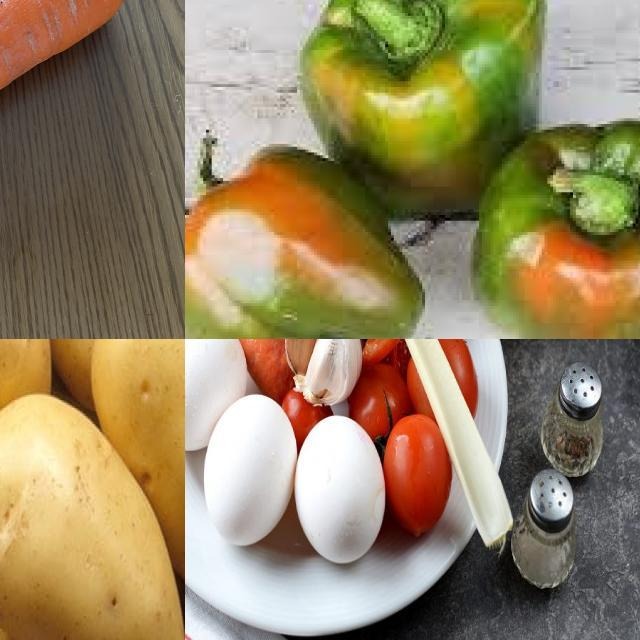bell_pepper: (285, 1, 548, 238), (186, 118, 437, 340), (455, 107, 640, 340)
carrot: (1, 1, 137, 233)
egg: (206, 393, 276, 556), (305, 423, 380, 569), (186, 340, 240, 448)
garlic: (297, 340, 361, 402)
potato: (1, 397, 186, 640), (83, 340, 186, 626), (1, 340, 52, 454)
tomato: (392, 414, 442, 530)
